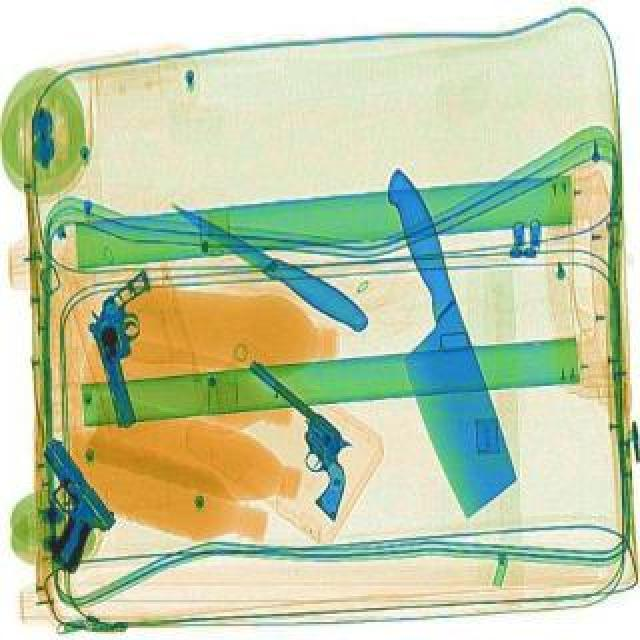gun: (236, 344, 380, 522), (18, 428, 124, 576), (70, 264, 162, 430)
knife: (334, 160, 538, 524), (158, 186, 378, 340)
